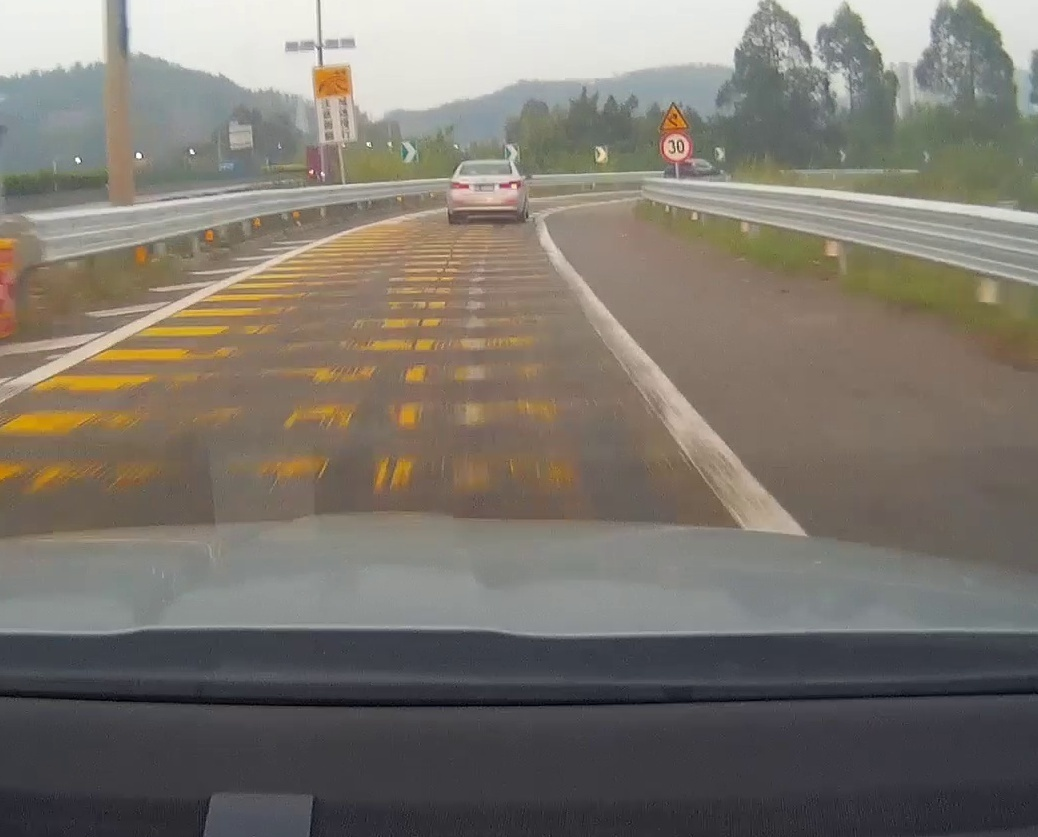L_light: (449, 181, 469, 188)
R_light: (499, 180, 521, 189)
T_light: (481, 163, 495, 165)
day-right: (446, 160, 524, 224)
